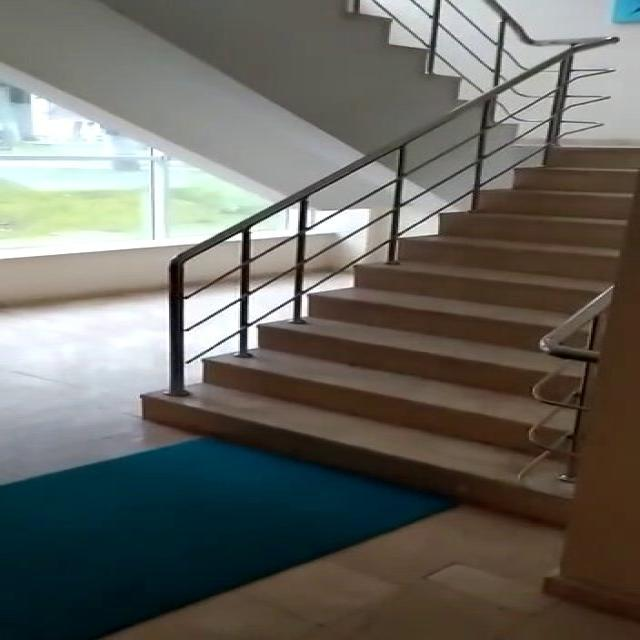upstair: (352, 75, 553, 496)
